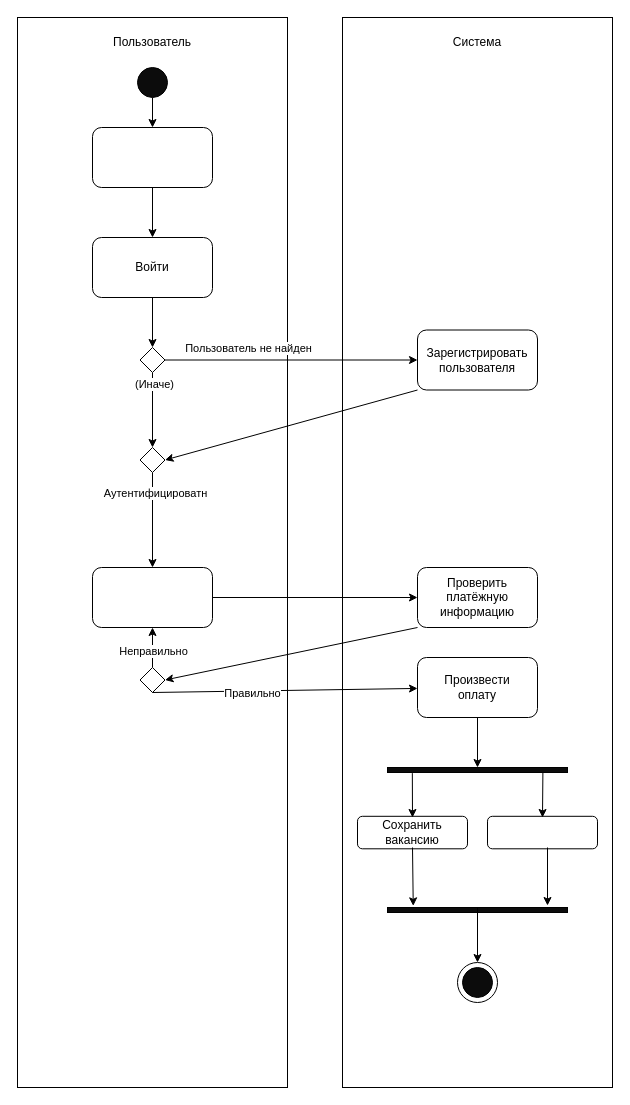
This 630x1105 diagram has some shape labels left out. The centre of each missing label's shape, as x and y in pixels:
Ввести описание вакансии: [152,157]
Ввести платёжную информацию: [152,597]
Подтвердить размещение: [542,832]
